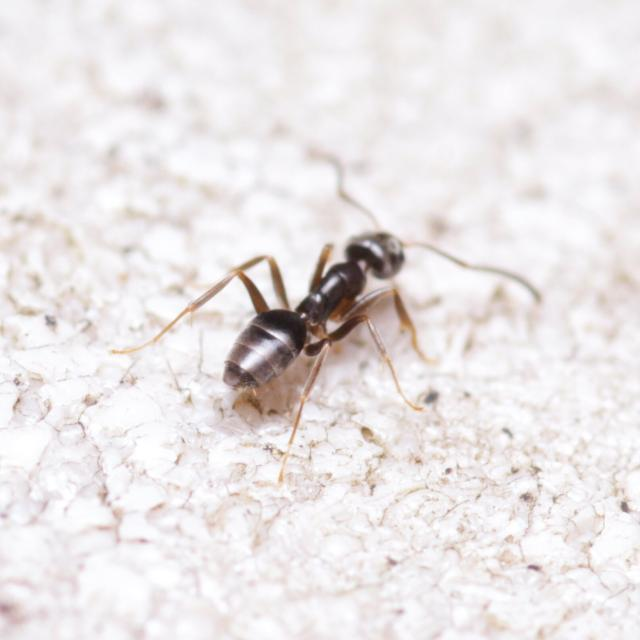Tapinoma: (177, 162, 477, 430)
